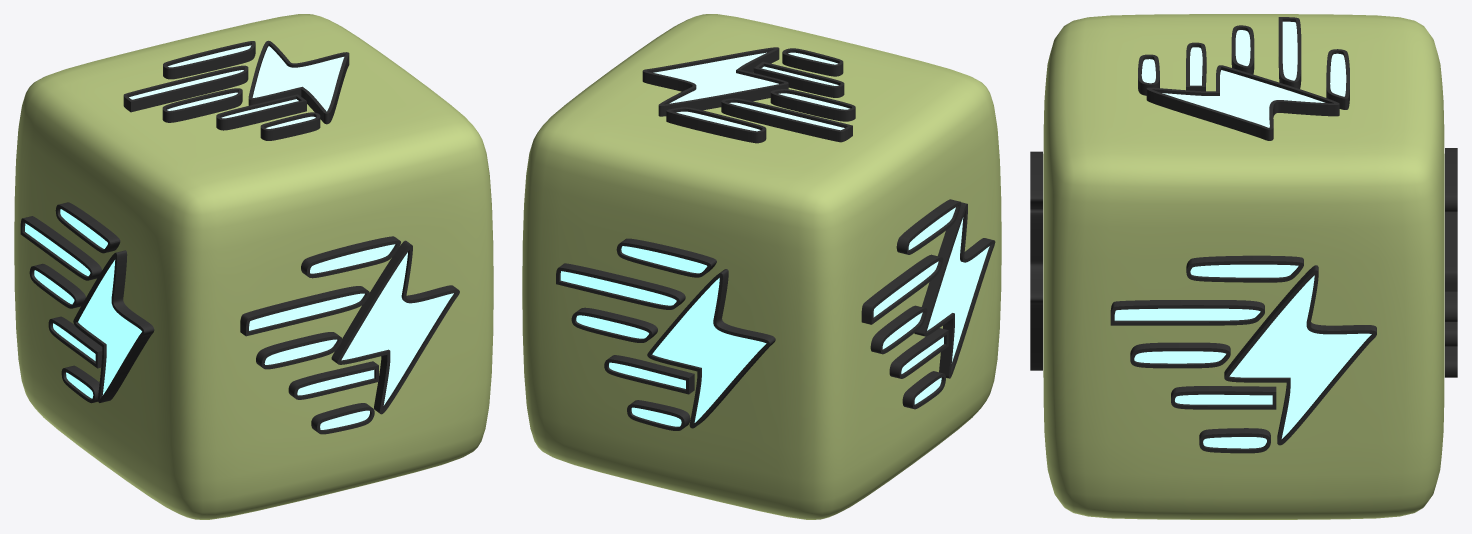
File: boost collectible.fbx
The picture shows the model from 3 angles, left to right: view 1: azimuth 30°, elevation 25°; view 2: azimuth 150°, elevation 25°; view 3: azimuth 270°, elevation 25°; orthographic projection. The views are drawn at different scales.
Parts seen in each view (by area): view 1: boost collectible, boost-side-face.002|thunder|Dupli|2, boost-side-face.002|border.002|Dupli|3, boost-side-face.003|thunder|Dupli|2, boost-side-face.003|border.002|Dupli|3, boost-side-face|thunder|Dupli|2, boost-side-face|border.003|Dupli|5, boost-side-face|border.002|Dupli|3, boost-side-face.002|border.003|Dupli|5, boost-side-face|border.001|Dupli|1, boost-side-face|border.005|Dupli|9, boost-side-face.003|border.003|Dupli|5 (+15 smaller); view 2: boost collectible, boost-side-face.004|thunder|Dupli|2, boost-side-face.003|border.002|Dupli|3, boost-side-face|border.002|Dupli|3, boost-side-face.003|thunder|Dupli|2, boost-side-face.004|border.002|Dupli|3, boost-side-face|thunder|Dupli|2, boost-side-face|border.003|Dupli|5, boost-side-face.004|border.003|Dupli|5, boost-side-face|border.001|Dupli|1, boost-side-face.003|border.003|Dupli|5, boost-side-face|border.004|Dupli|7 (+15 smaller); view 3: boost collectible, boost-side-face.001|thunder|Dupli|2, boost-side-face|border.002|Dupli|3, boost-side-face.001|border.002|Dupli|3, boost-side-face|thunder|Dupli|2, boost-side-face.001|border.003|Dupli|5, boost-side-face.002|border.002|Dupli|3, boost-side-face.001|border.001|Dupli|1, boost-side-face.001|line 2|Dupli|4, boost-side-face.001|border.005|Dupli|9, boost-side-face.001|border.004|Dupli|7, boost-side-face.001|line 1|Dupli| (+15 smaller).
Part boxes in pixels (x1,y1,x2,y2): boost collectible: (14,14,493,519); boost-side-face.002|thunder|Dupli|2: (341,252,453,405); boost-side-face.002|border.002|Dupli|3: (331,240,459,414); boost-side-face.003|thunder|Dupli|2: (78,260,141,395); boost-side-face.003|border.002|Dupli|3: (73,250,154,402); boost-side-face|thunder|Dupli|2: (252,46,344,111); boost-side-face|border.003|Dupli|5: (123,65,248,112); boost-side-face|border.002|Dupli|3: (248,40,349,124); boost-side-face.002|border.003|Dupli|5: (240,286,369,336); boost-side-face|border.001|Dupli|1: (163,41,255,79); boost-side-face|border.005|Dupli|9: (216,94,306,130); boost-side-face.003|border.003|Dupli|5: (20,216,101,280); boost collectible: (522,14,1001,519); boost-side-face.004|thunder|Dupli|2: (652,278,766,422); boost-side-face.003|border.002|Dupli|3: (914,202,995,378); boost-side-face|border.002|Dupli|3: (642,47,788,116); boost-side-face.003|thunder|Dupli|2: (927,217,989,361); boost-side-face.004|border.002|Dupli|3: (647,269,775,428); boost-side-face|thunder|Dupli|2: (653,52,778,103); boost-side-face|border.003|Dupli|5: (721,98,852,142); boost-side-face.004|border.003|Dupli|5: (556,263,685,309); boost-side-face|border.001|Dupli|1: (666,107,766,143); boost-side-face.003|border.003|Dupli|5: (861,254,943,324); boost-side-face|border.004|Dupli|7: (770,89,855,121); boost collectible: (1043,14,1444,519); boost-side-face.001|thunder|Dupli|2: (1229,275,1371,438); boost-side-face|border.002|Dupli|3: (1146,65,1339,140); boost-side-face.001|border.002|Dupli|3: (1224,265,1376,445); boost-side-face|thunder|Dupli|2: (1162,70,1324,127); boost-side-face.001|border.003|Dupli|5: (1110,300,1264,325); boost-side-face.002|border.002|Dupli|3: (1030,210,1042,370); boost-side-face.001|border.001|Dupli|1: (1186,255,1303,282); boost-side-face.001|line 2|Dupli|4: (1114,308,1260,320); boost-side-face.001|border.005|Dupli|9: (1171,386,1276,409); boost-side-face.001|border.004|Dupli|7: (1130,342,1230,368); boost-side-face.001|line 1|Dupli|: (1190,264,1298,277).
Size of the model in its own units: 213 by 213 by 213.
